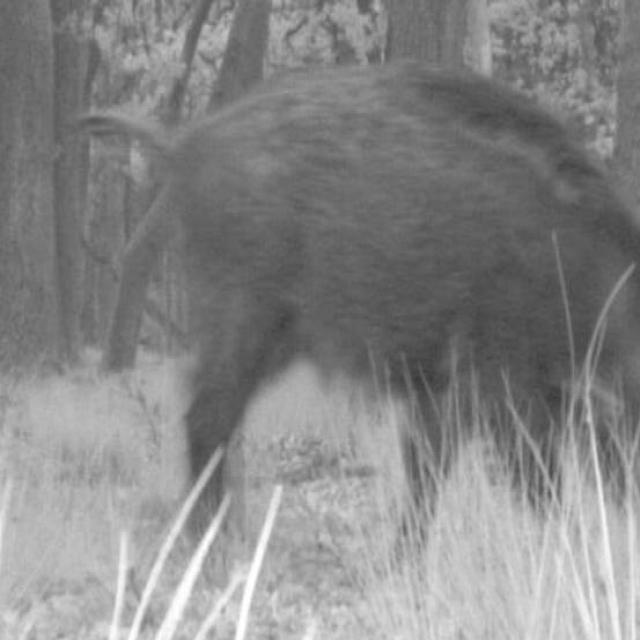pig: (158, 73, 640, 556)
